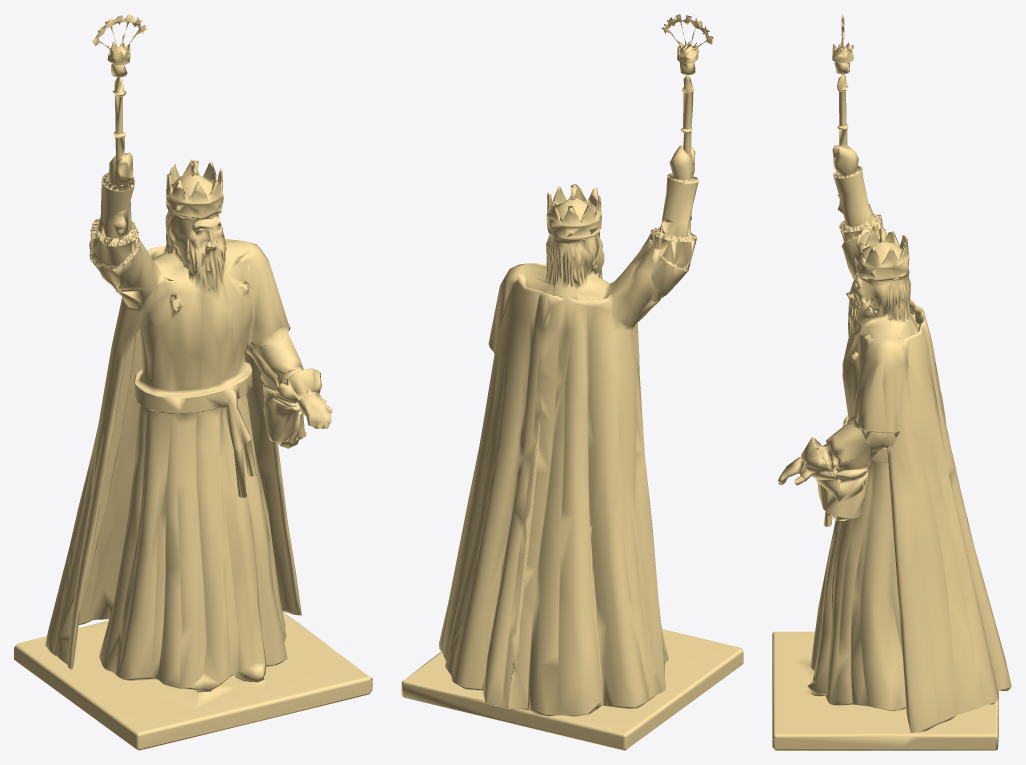
The model's file is statue_lod2.glb.
3 renders of one model, left to right at view 1: azimuth 30°, elevation 25°; view 2: azimuth 150°, elevation 25°; view 3: azimuth 270°, elevation 25°, orthographic. The views are drawn at different scales.
Visible parts, largest first — view 1: statue; view 2: statue; view 3: statue.
Boxes of the visible parts, left/top/right/bottom form: statue: left=14, top=14, right=372, bottom=750; statue: left=401, top=14, right=743, bottom=750; statue: left=772, top=14, right=1011, bottom=750.
Size of the model in its own units: 4.89 by 13.32 by 4.53.
